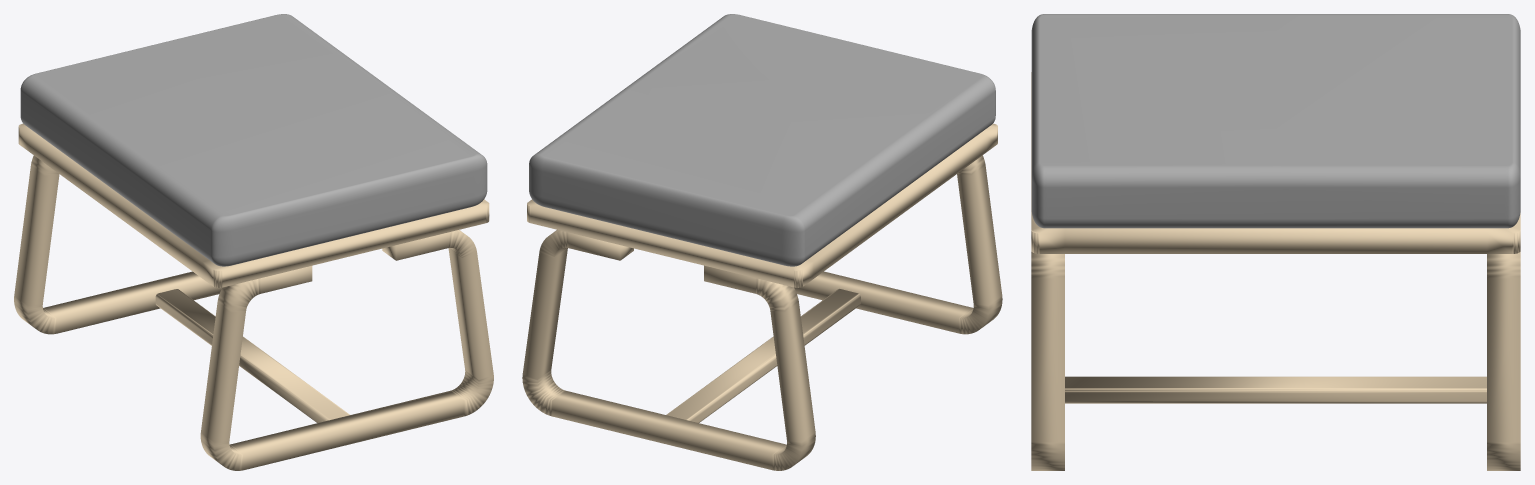
The picture shows the model from 3 angles, left to right: view 1: azimuth 30°, elevation 25°; view 2: azimuth 150°, elevation 25°; view 3: azimuth 270°, elevation 25°; orthographic projection. The views are drawn at different scales.
Size of the model in its own units: 467 by 407 by 580.
